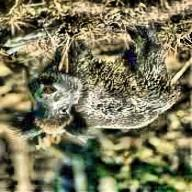boar: (22, 32, 192, 156)
